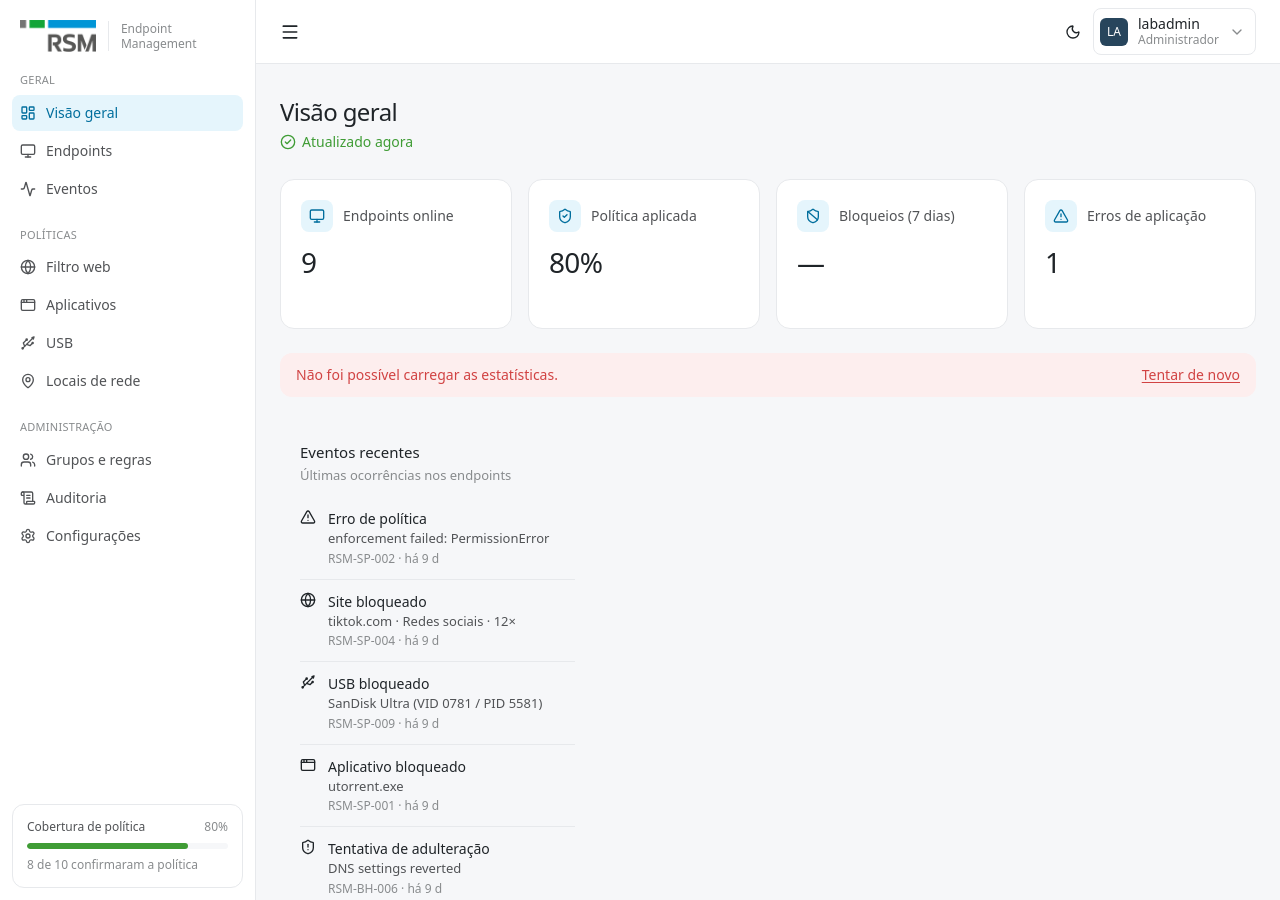
Test: dashboard › shows a retryable error when statistics fail and keeps fleet data
Expected: the text "Não foi possível carregar as estatísticas." is shown, [296,365,558,385]
Expected: the text "9" is shown, [301,243,316,281]
Click the button "Tentar de novo".
click(1191, 375)  # box [1142,365,1240,385]
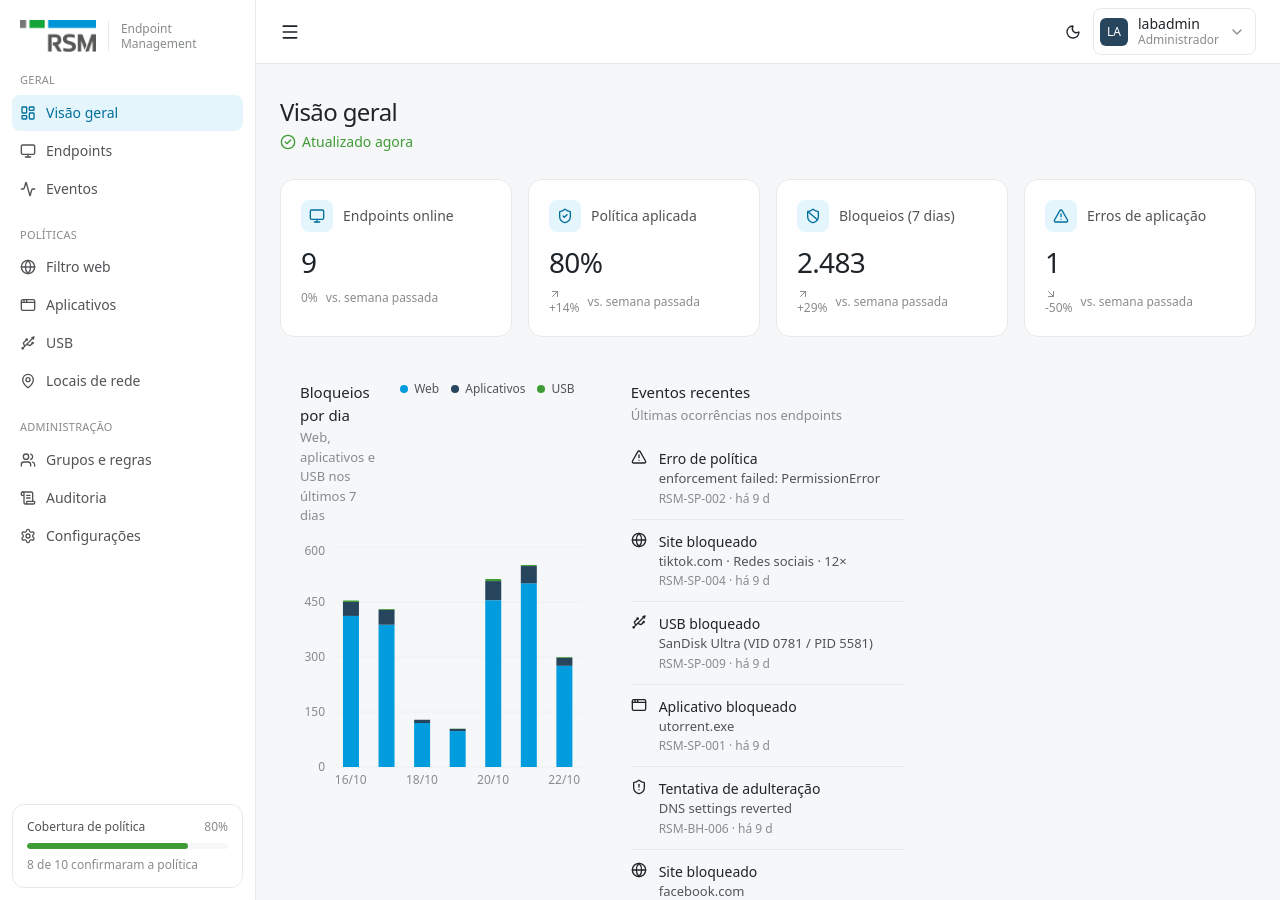
Now the text "Não foi possível carregar as estatísticas." is gone
